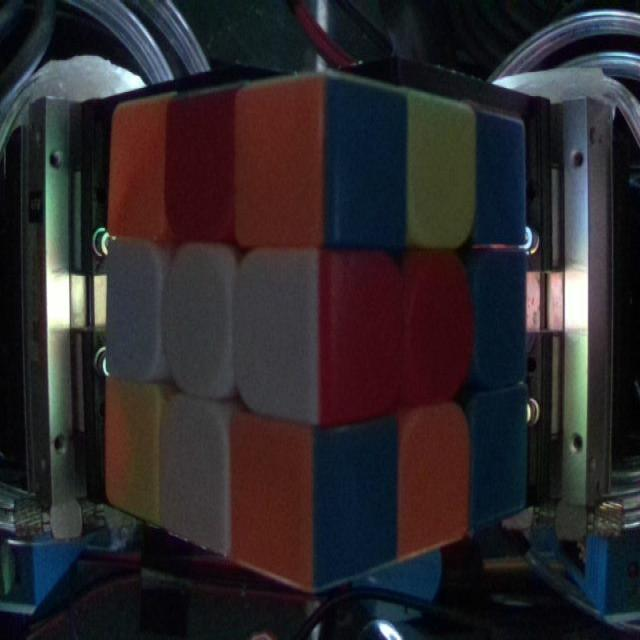b: (332, 86, 402, 238), (323, 435, 393, 572), (477, 266, 526, 382), (478, 405, 527, 515), (484, 117, 524, 239)
o: (246, 95, 319, 236), (325, 269, 402, 399), (234, 431, 303, 568), (412, 272, 471, 396), (171, 111, 230, 232), (407, 414, 462, 534), (114, 116, 159, 229)
w: (243, 265, 313, 411), (165, 256, 231, 383), (164, 406, 226, 538), (109, 251, 155, 364)
y: (412, 105, 469, 234), (106, 389, 157, 507)
